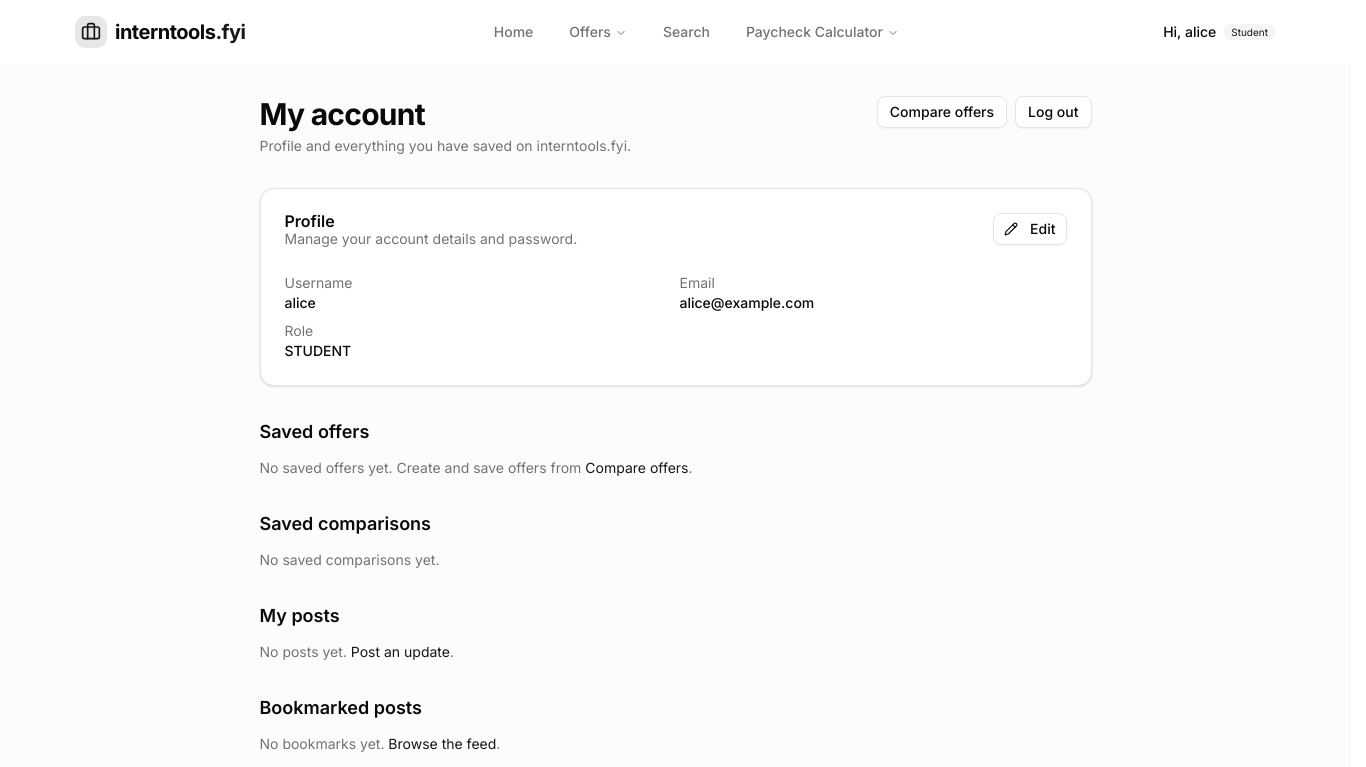
Test: /me page › requires current password when changing email
This screenshot has width=1366, height=767.
Click the button "Edit" at (1030, 229), box [993, 213, 1066, 245]
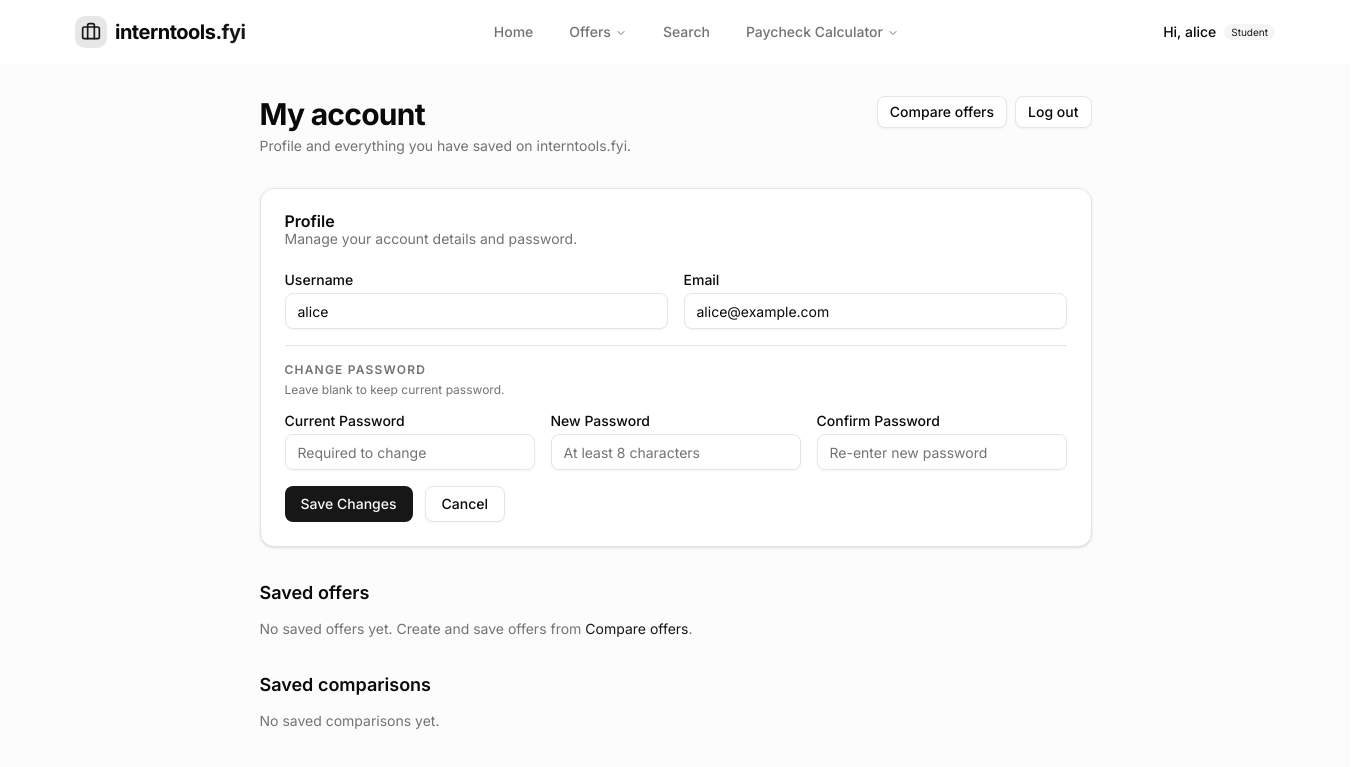
Replace the text in the field showing "alice@example.com" with "new@example.com" at (875, 311), box [684, 293, 1066, 329]
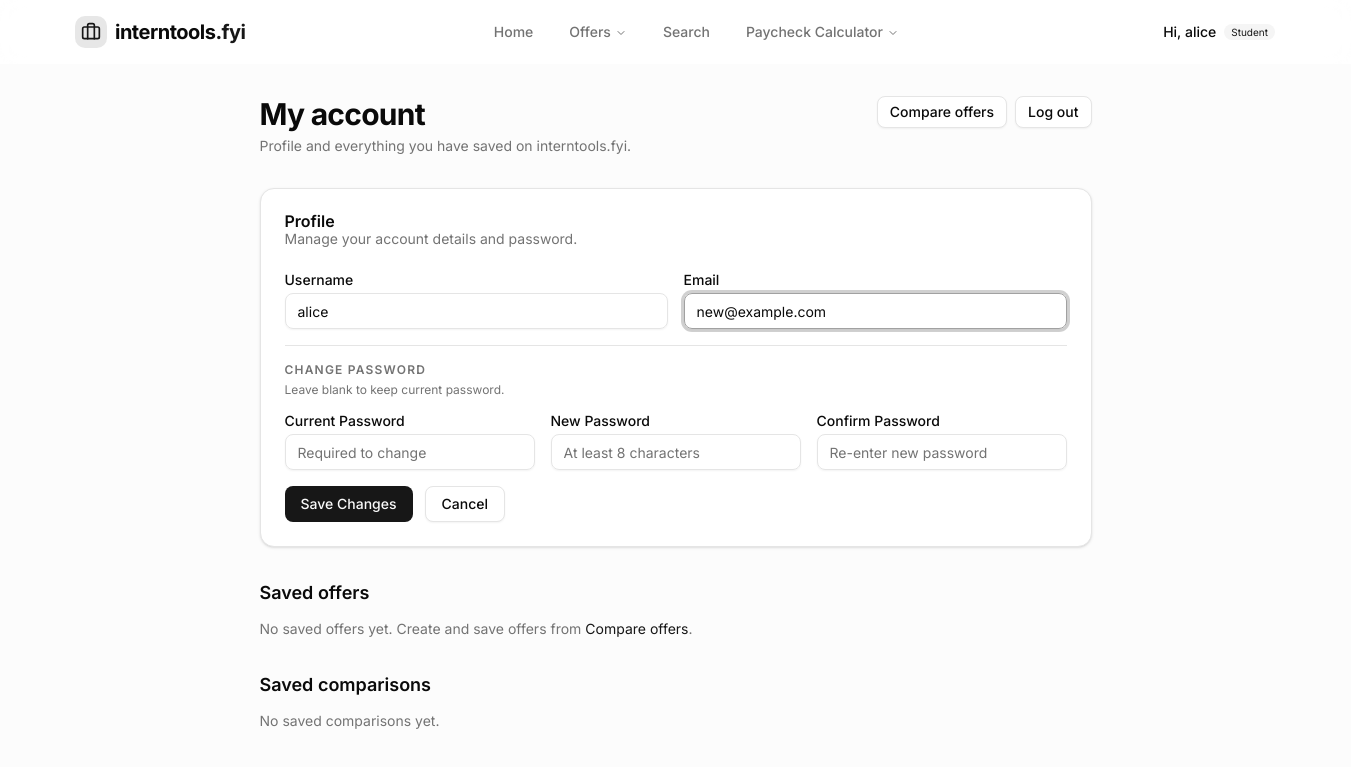
Click the button "Save Changes" at (348, 504), box [284, 486, 412, 522]
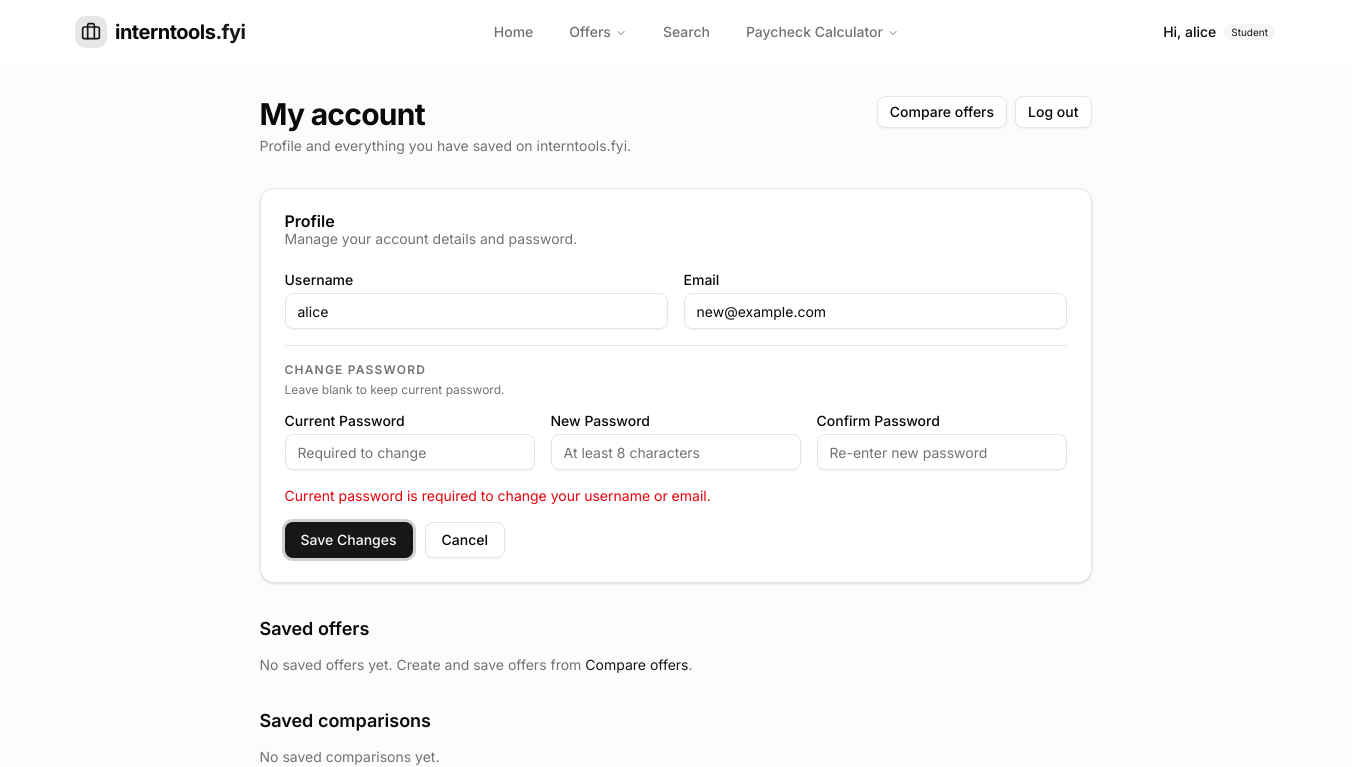
Check: the text "Current password is required to change your username or email." is shown, box [284, 487, 711, 504]
